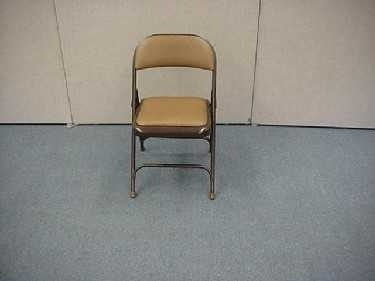obstacle: (129, 34, 215, 199)
